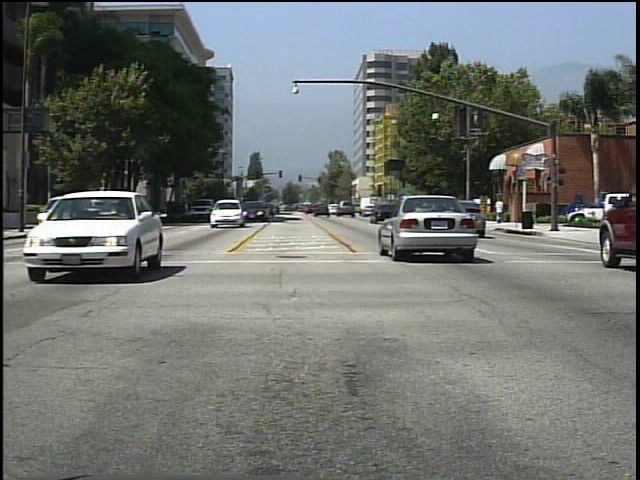person: (450, 193, 468, 229), (493, 194, 507, 224)
